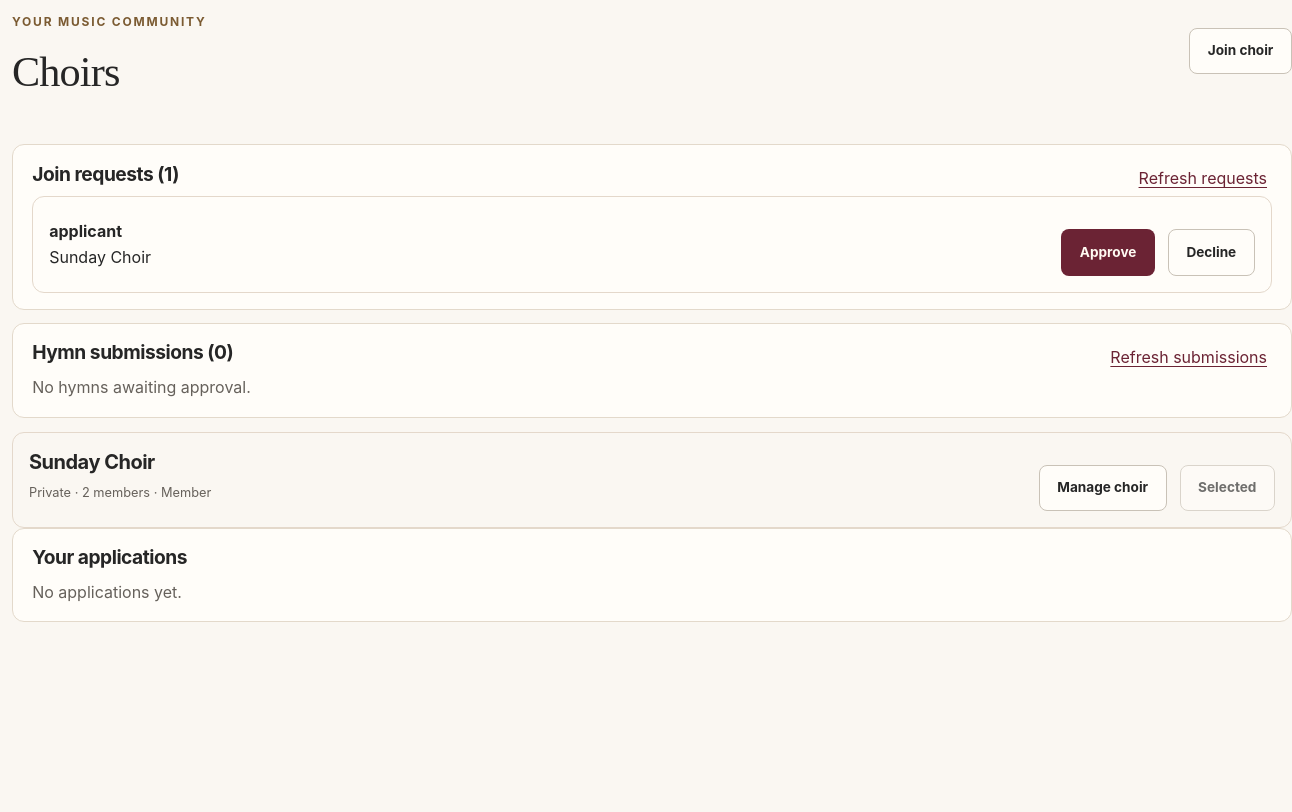
Test case: lets an Admin review and mark a request declined directly on Choirs
This screenshot has width=1292, height=812.
Expected: the text "applicant" is shown, top-left (49, 221), bottom-right (122, 241)
Click the button "Decline". click: {"x": 1211, "y": 252}
box: top-left (1168, 229), bottom-right (1255, 276)
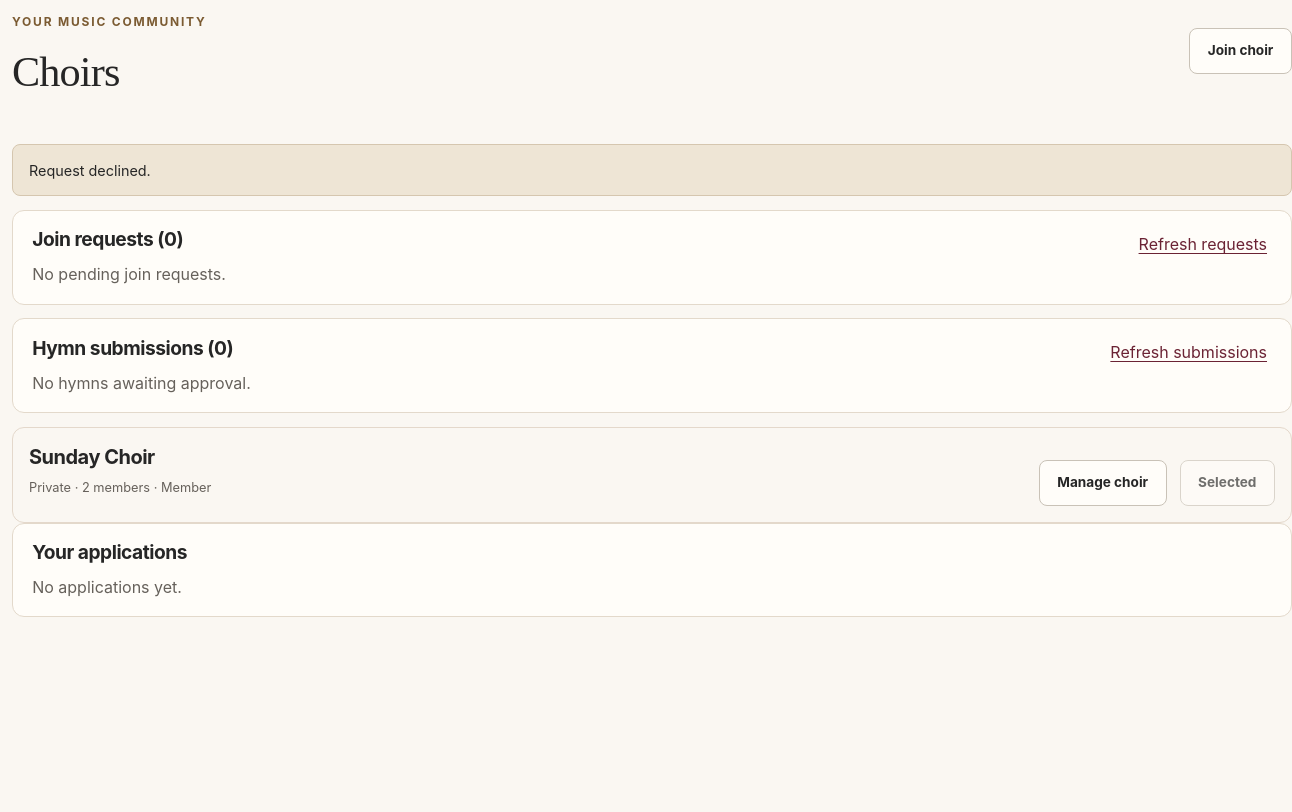
Expected: the text "No pending join requests." is shown, top-left (32, 264), bottom-right (226, 284)
